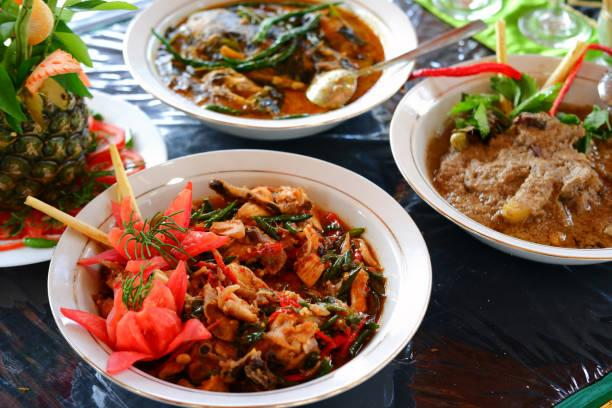Braised Crucian Carp: (46, 146, 435, 408), (389, 54, 606, 261), (124, 1, 414, 141)
